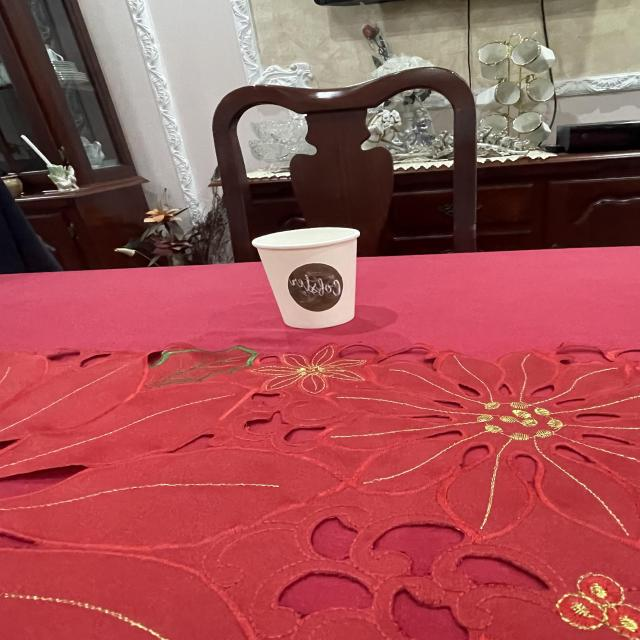small: (248, 221, 366, 334)
